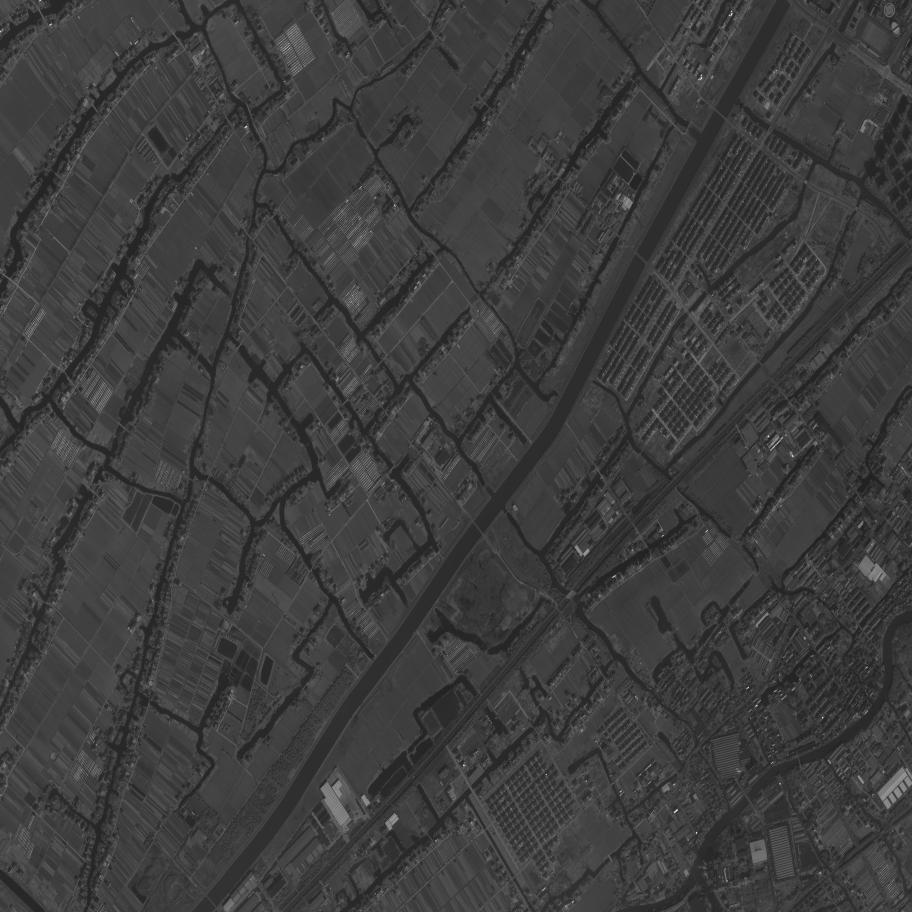ship: (382, 365, 387, 371)
